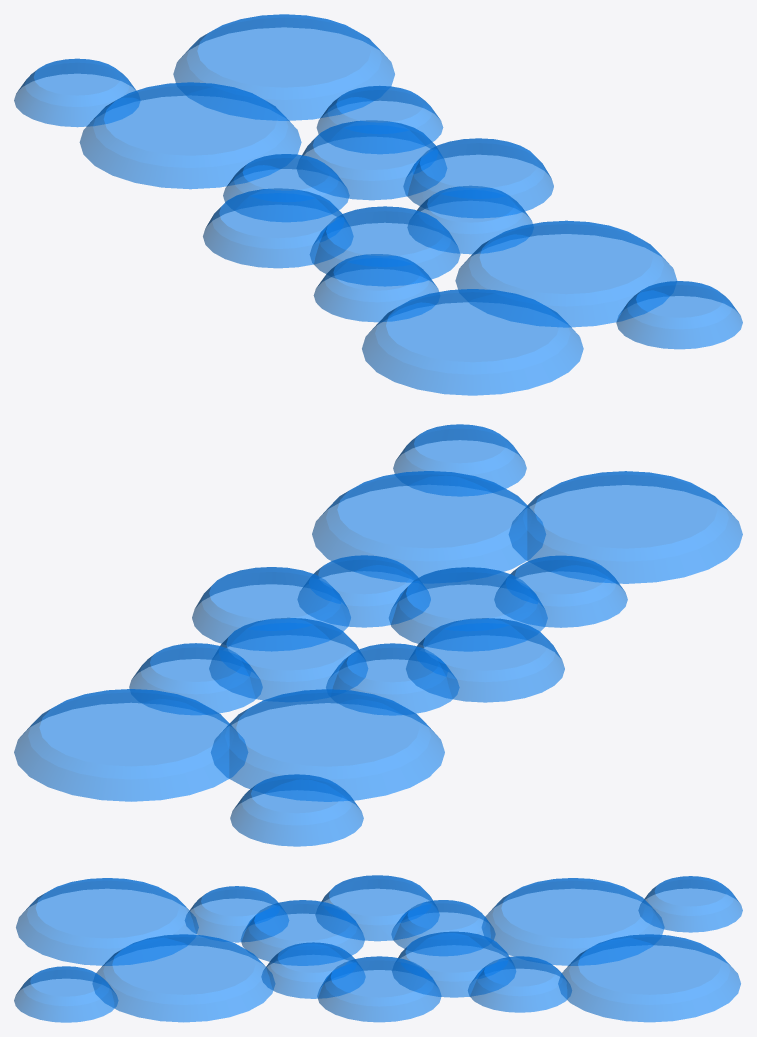
File: puddlette.fbx
3 views of the same model, one above another, from view 1: azimuth 30°, elevation 25°; view 2: azimuth 150°, elevation 25°; view 3: azimuth 270°, elevation 25° (orthographic). The views are drawn at different scales.
Visible parts, largest first — view 1: Group3, Group2; view 2: Group3, Group2; view 3: Group2, Group3.
Boxes of the visible parts, left/top/right/bottom form: Group3: left=14, top=58, right=583, bottom=395; Group2: left=173, top=14, right=742, bottom=349; Group3: left=211, top=471, right=742, bottom=846; Group2: left=14, top=424, right=545, bottom=801; Group2: left=14, top=931, right=740, bottom=1022; Group3: left=16, top=875, right=742, bottom=965.
Size of the model in its own units: 14306 by 954 by 32794.
